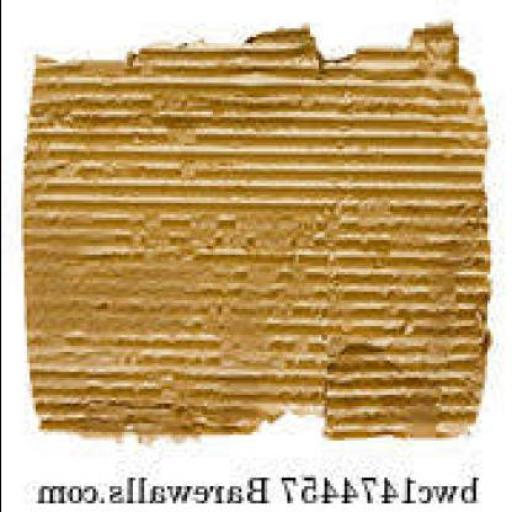cardboard: (17, 17, 484, 443)
